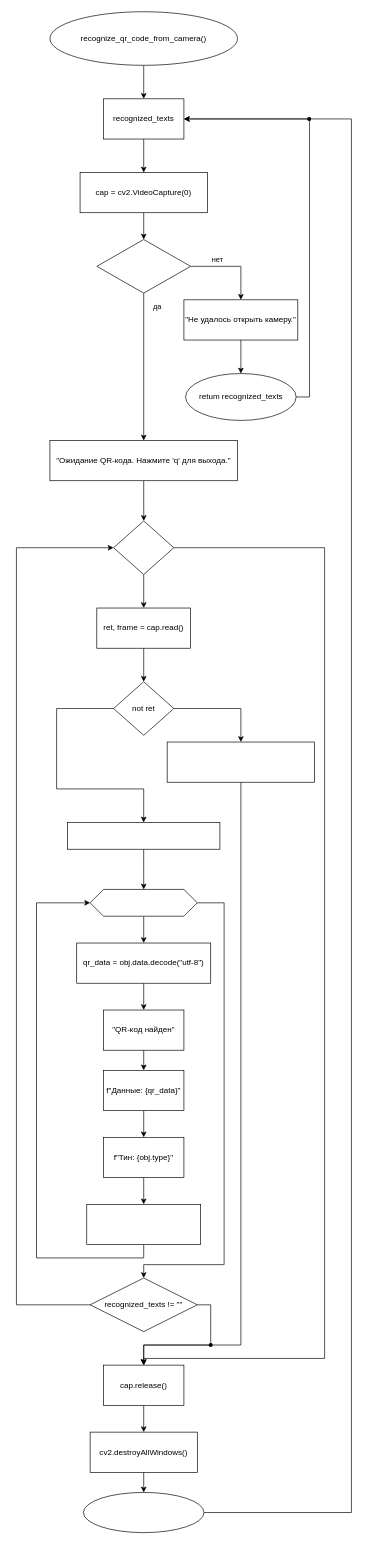
The diagram is 369 pixels wide and 1544 high, and some of its shapes have lost their labels. The box of each missing label's shape, as (x1, y1, x2, y2) in pixels:
"Не удалось получит кадр с камеры": (166, 741, 315, 782)
decoded_objects = decode(frame): (67, 822, 220, 849)
not cap.isOpened(): (96, 239, 191, 293)
obj in decoded_ objects: (89, 889, 197, 916)
recognized_texts = qr_data: (86, 1204, 201, 1245)
return recognized_texts: (83, 1492, 204, 1533)
true: (113, 520, 174, 575)
